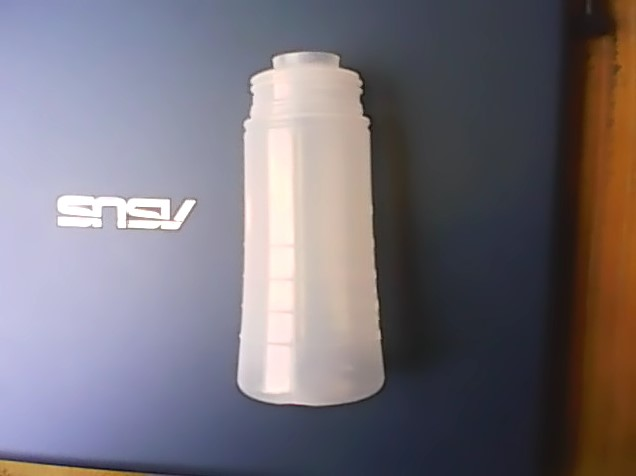Plastic: (231, 47, 385, 410)
